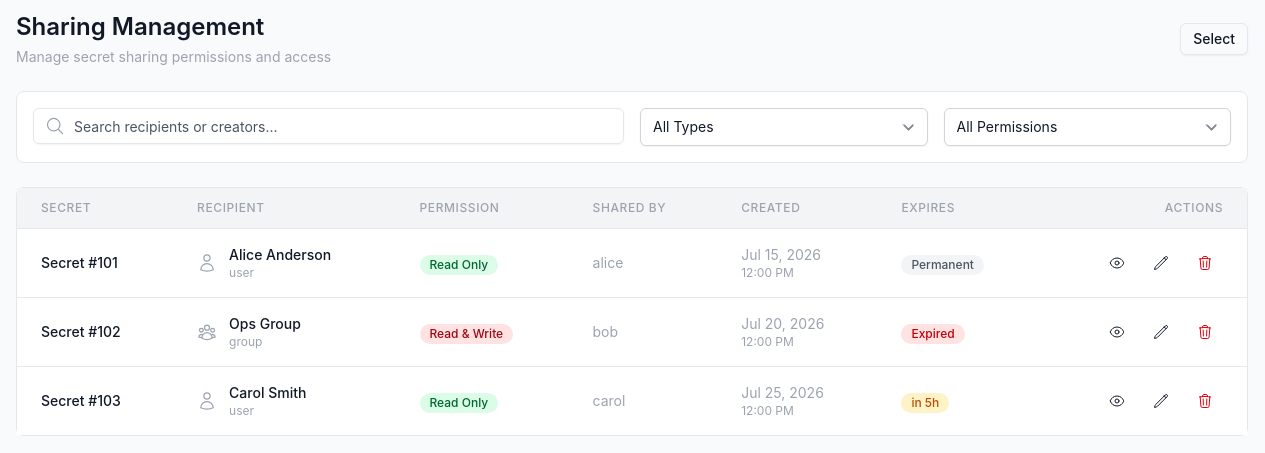
it: SharingManagementPage — search / filters › filters by permission client-side without sending it to the query
The image size is (1265, 453).
Select "Read & Write" in the 2nd dropdown at (1087, 127), box [944,108,1231,146]
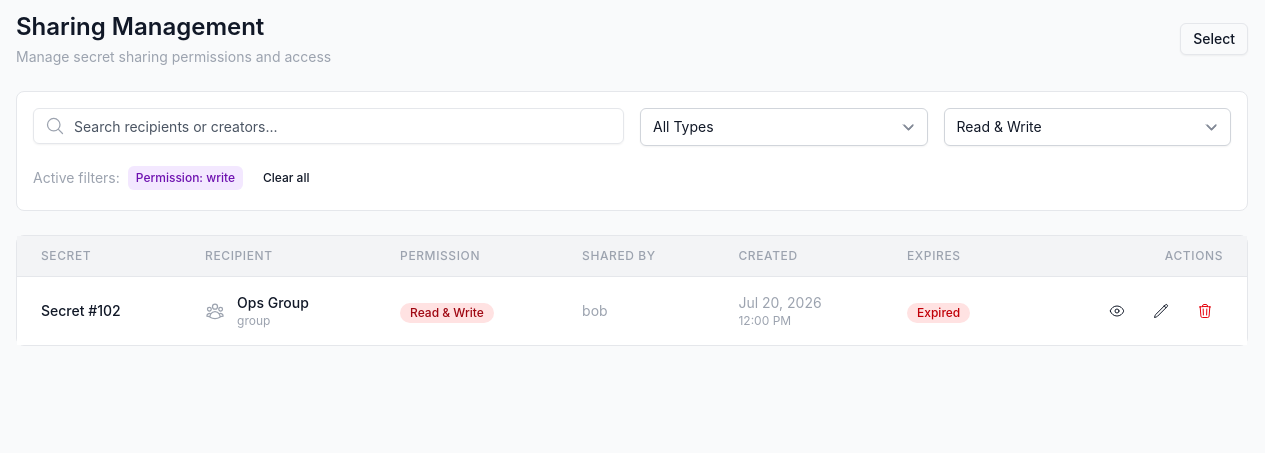
Expected: the text "Ops Group" is shown, [237,293,309,313]
Expected: the text "Alice Anderson" is gone
Expected: the text "Permission: write" is shown, [128,166,243,190]
